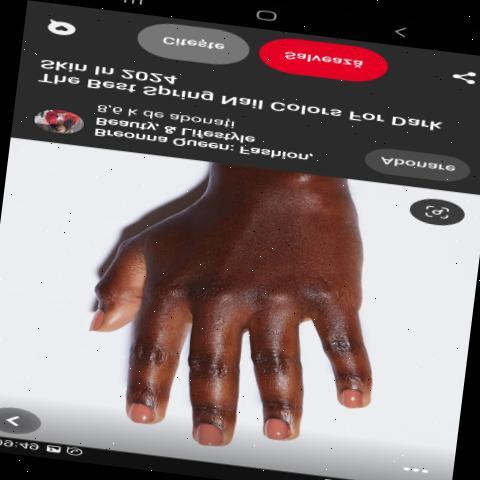Hands: (62, 180, 432, 449)
